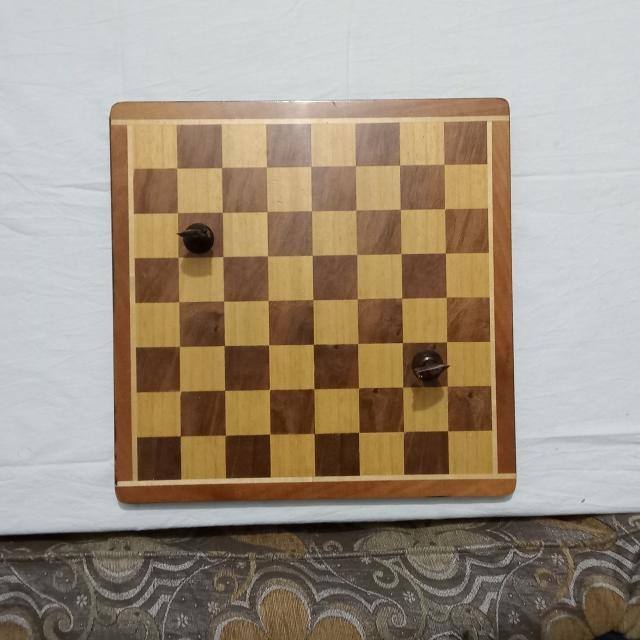black-knight: (409, 349, 447, 386), (180, 221, 216, 254)
